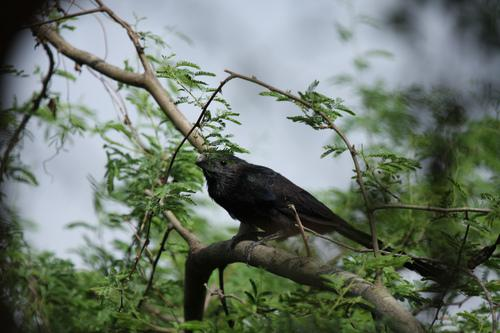004.Groove_billed_Ani: (192, 153, 383, 252)
